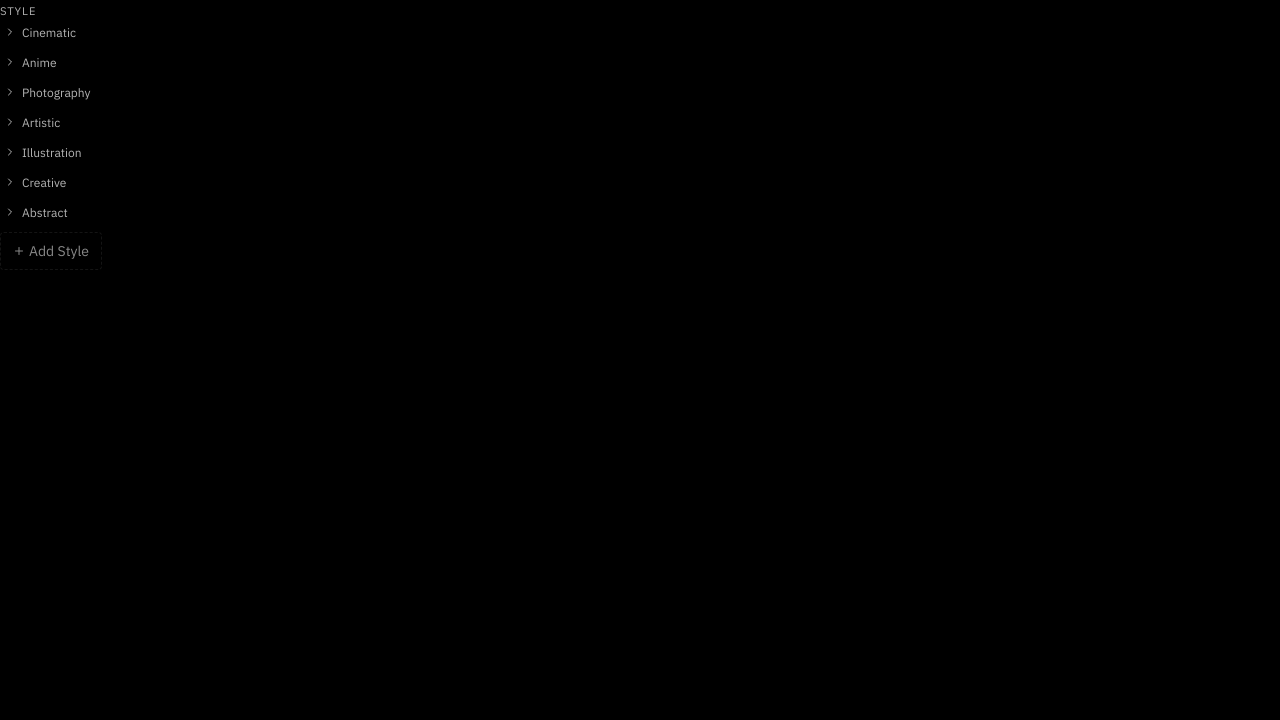
Test: StylePresetsBar › refuses an empty or duplicate style with a reason
The image size is (1280, 720).
Click the button with aria-label "Add style preset" at point(51, 251), box 0,232 -> 102,270
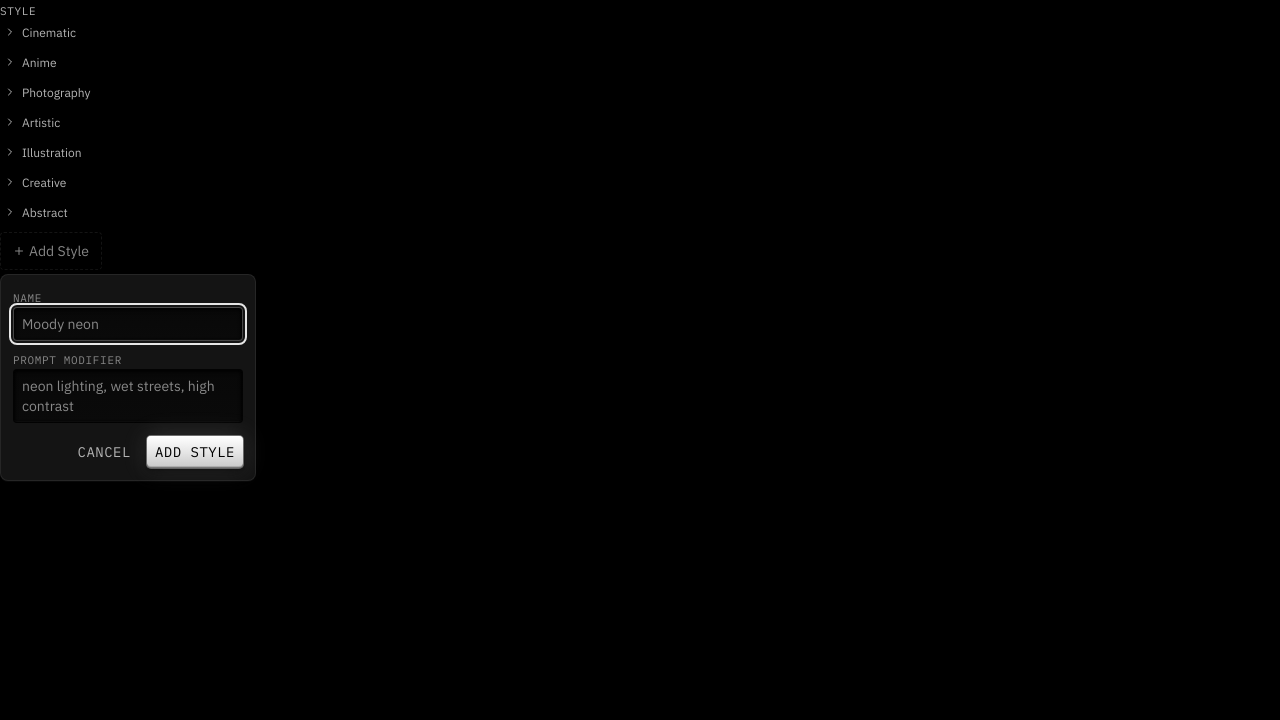
Click the button "Add Style" below "Prompt modifier" at point(195, 452), box 147,436 -> 243,468
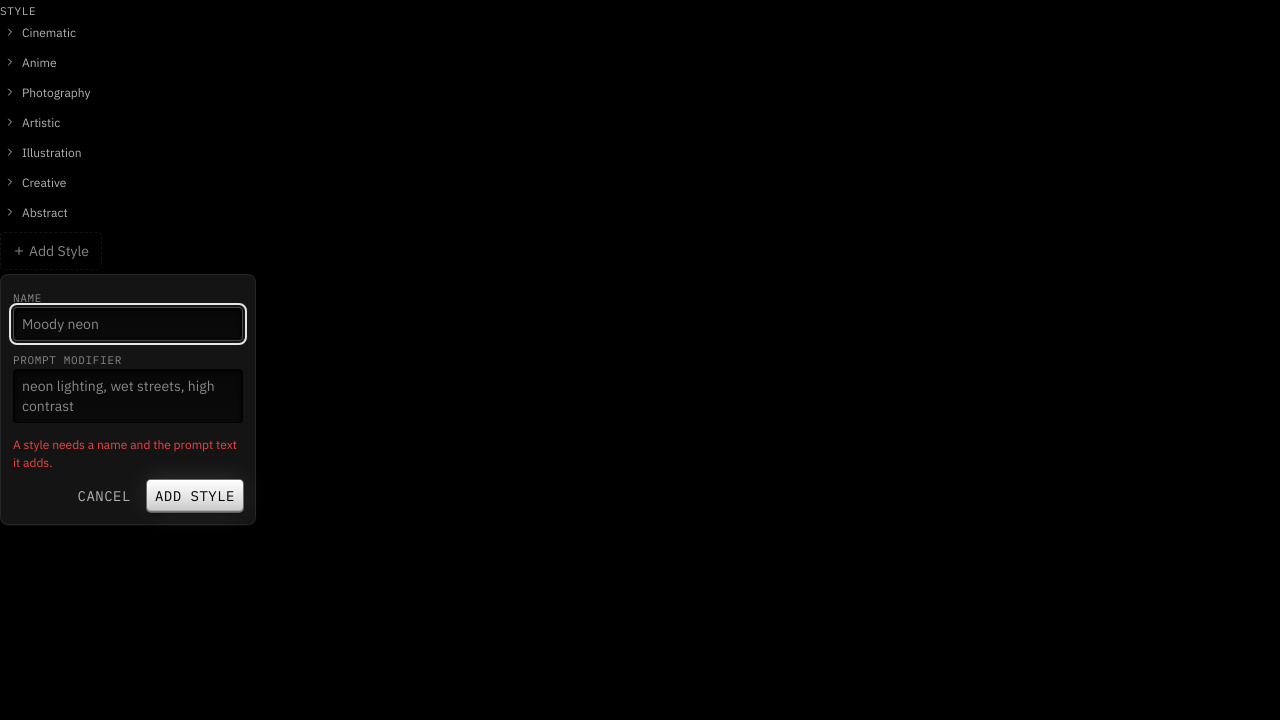
Now the message shows "needs a name", box 13,437 -> 237,470
Type "Cinematic" into the field labelled "Name" at point(128, 324), box 13,307 -> 243,341
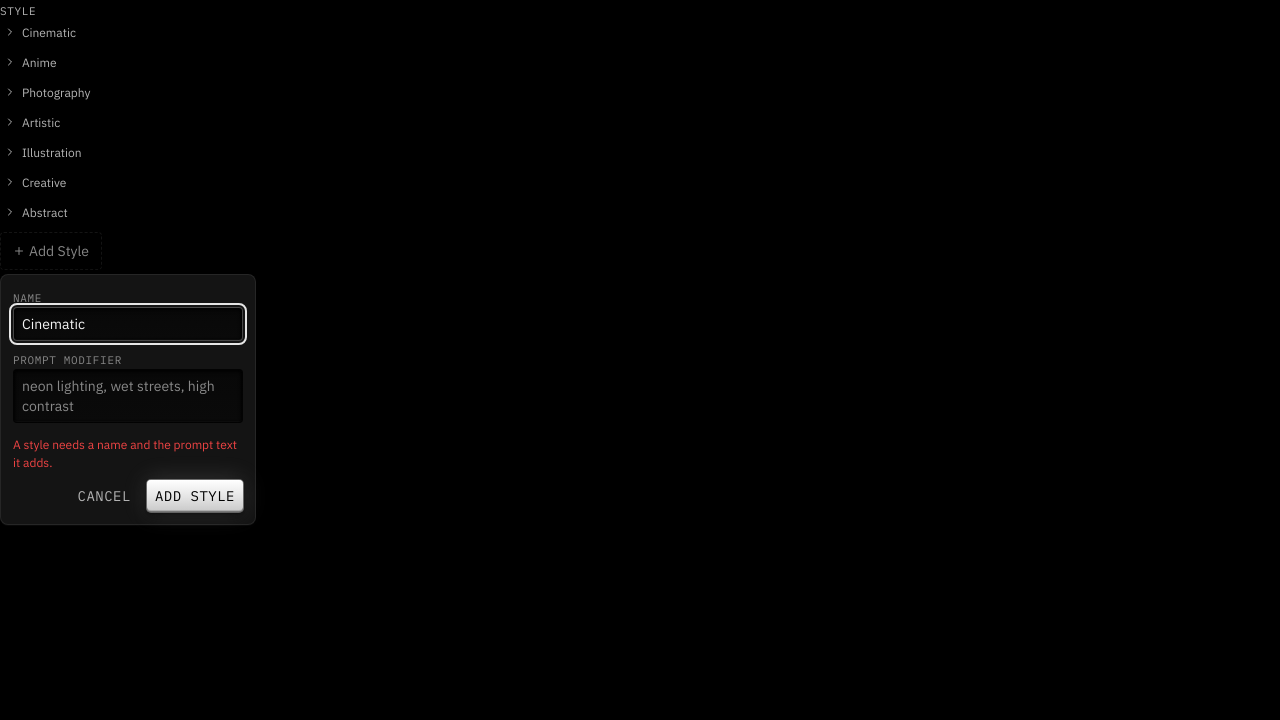
Type "x" into the text box labelled "Prompt modifier" at point(128, 396), box 13,369 -> 243,423
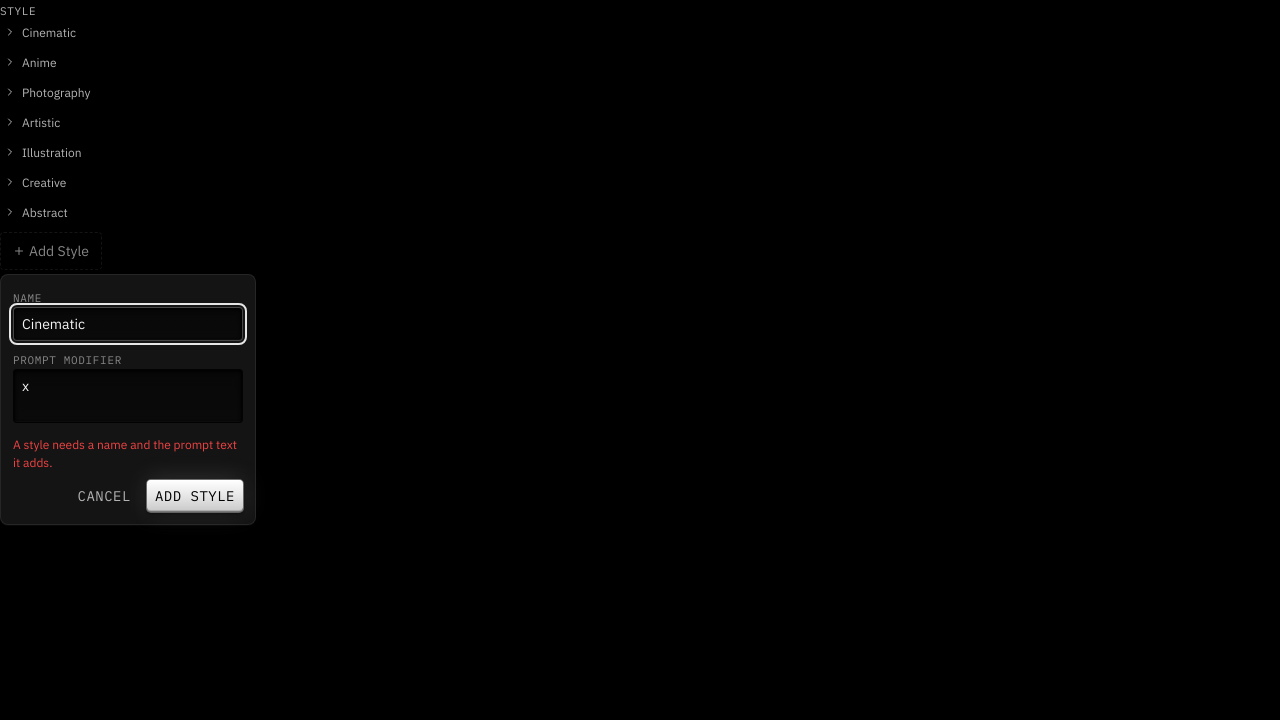
Click the button "Add Style" below "Prompt modifier" at point(195, 496), box 147,480 -> 243,512
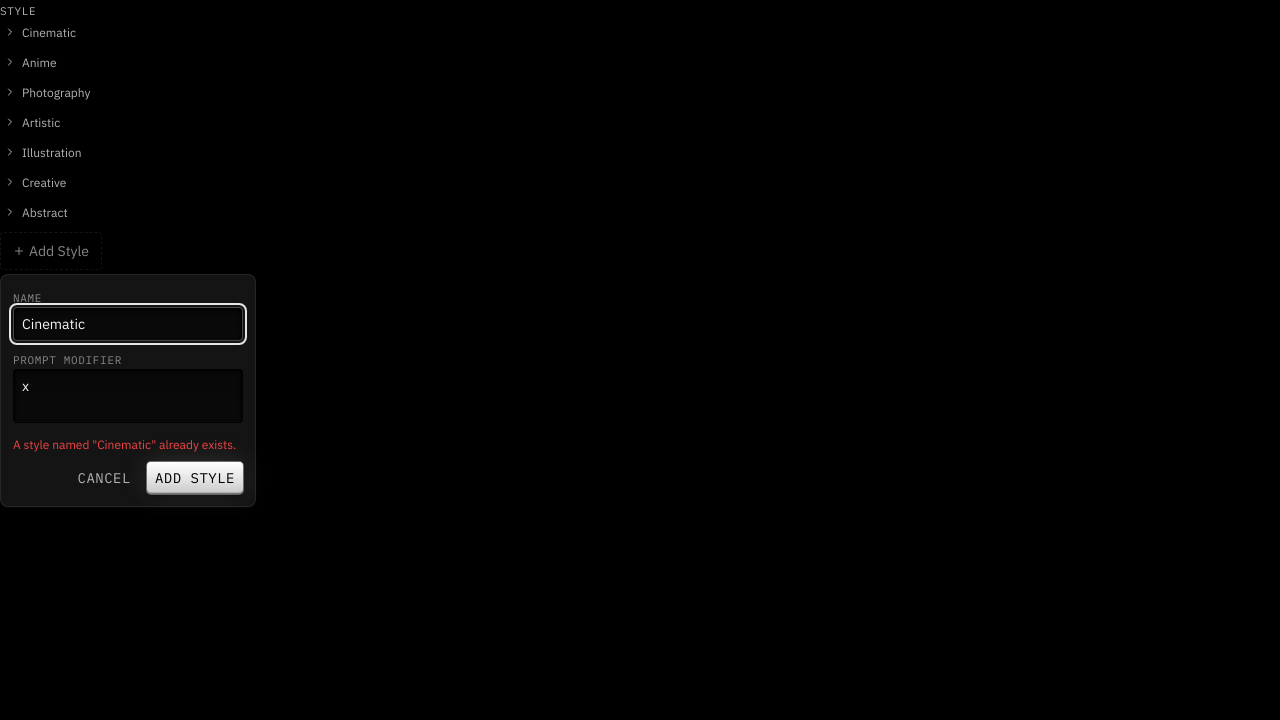
Now the message shows "already exists", box 13,437 -> 236,452
